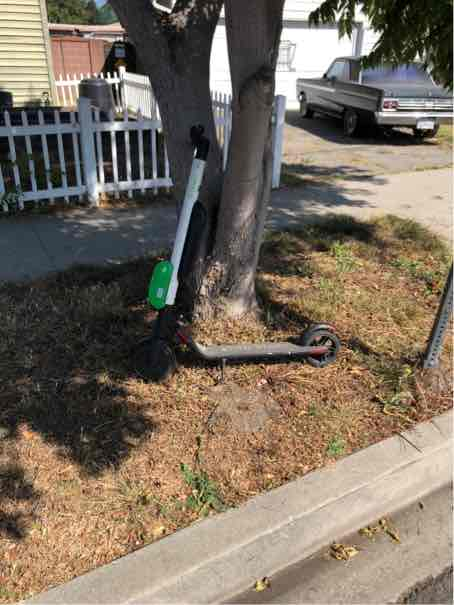scooter: (126, 137, 357, 375)
